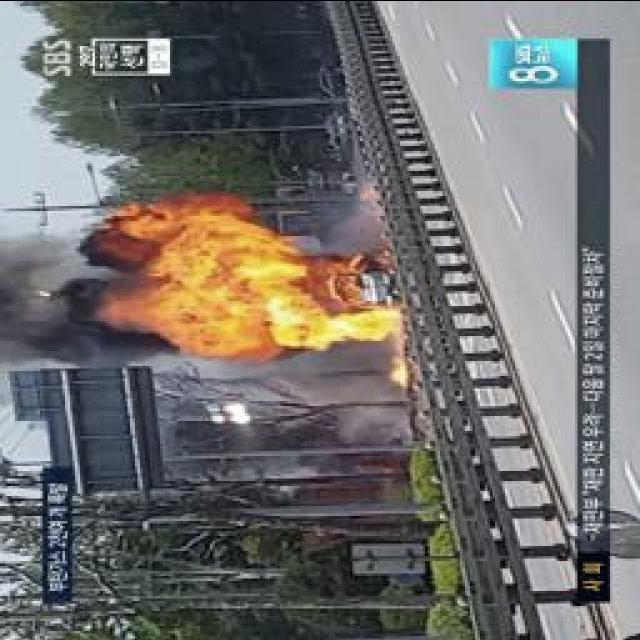Fire: (166, 244, 414, 357), (384, 361, 410, 390)
